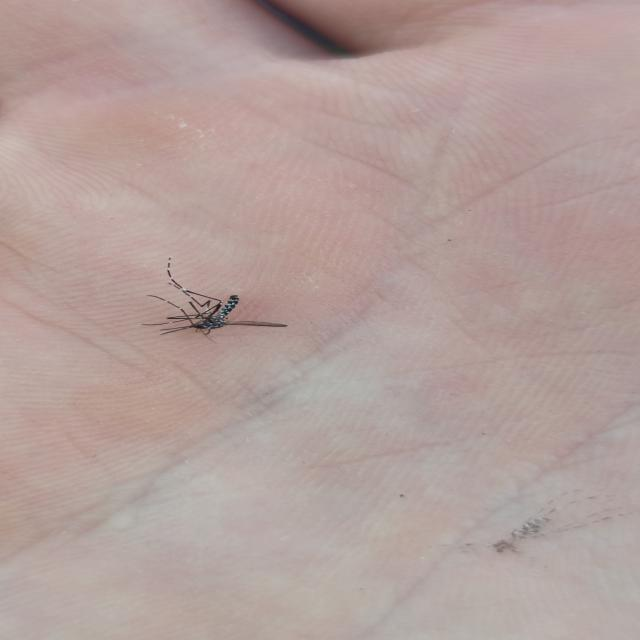albopictus: (124, 258, 289, 345)
